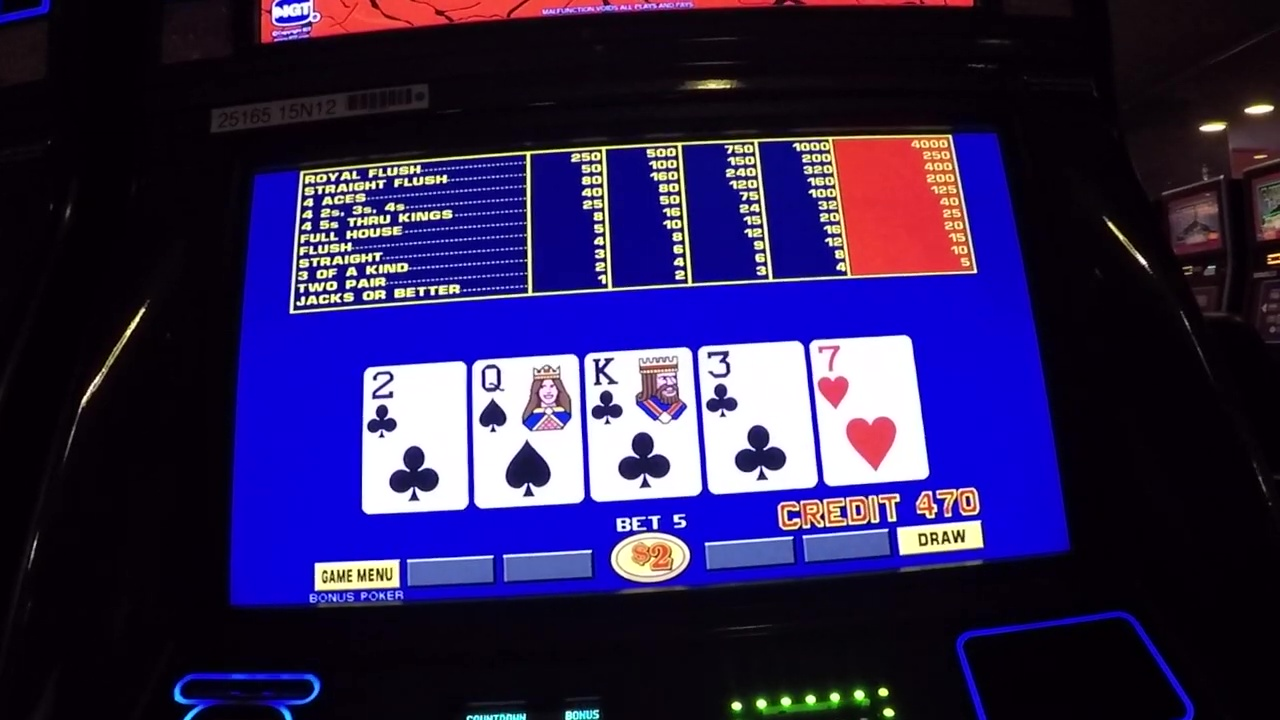C2: (366, 369, 465, 437)
C3: (704, 347, 801, 418)
CK: (591, 356, 694, 424)
H7: (814, 342, 913, 411)
SQ: (477, 360, 579, 437)
